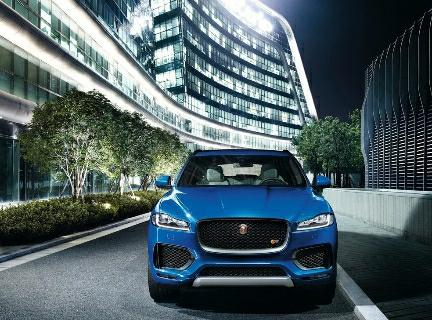car: (129, 138, 352, 309)
